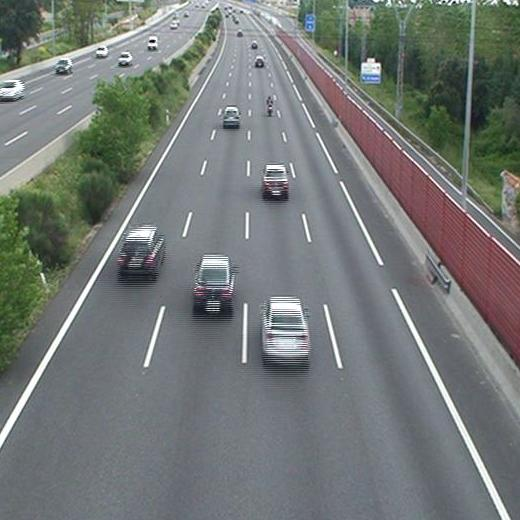car: (261, 297, 310, 361), (194, 255, 233, 312), (118, 227, 162, 271), (263, 165, 289, 195), (223, 106, 240, 126), (254, 57, 263, 68), (250, 40, 258, 49)
motorcycle: (266, 94, 274, 117)
